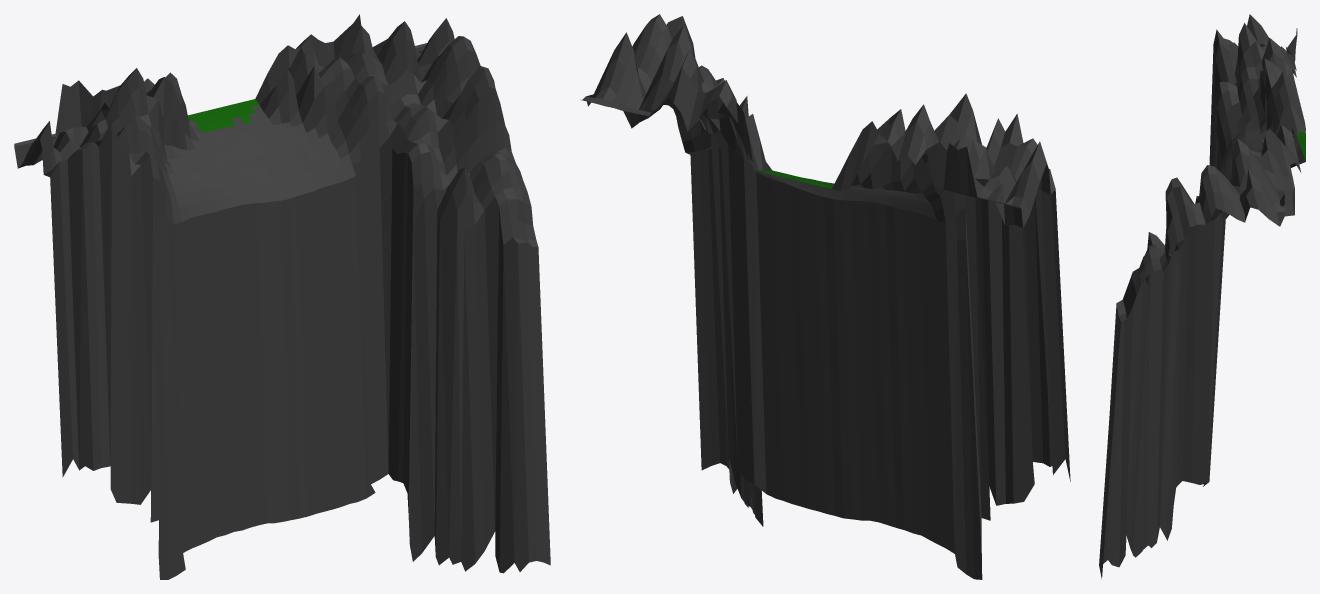
File: HillDrop.fbx
3 views of the same model, side by side, from view 1: azimuth 30°, elevation 25°; view 2: azimuth 150°, elevation 25°; view 3: azimuth 270°, elevation 25° (orthographic). The views are drawn at different scales.
Visible parts, largest first — view 1: HillPart1.001; view 2: HillPart1.001; view 3: HillPart1.001.
Part boxes in pixels (left/top/right/bottom): HillPart1.001: left=14, top=14, right=550, bottom=579; HillPart1.001: left=580, top=14, right=1070, bottom=579; HillPart1.001: left=1099, top=14, right=1305, bottom=578.
Bounding box in the file's own units: 15082 × 17408 × 7693.
